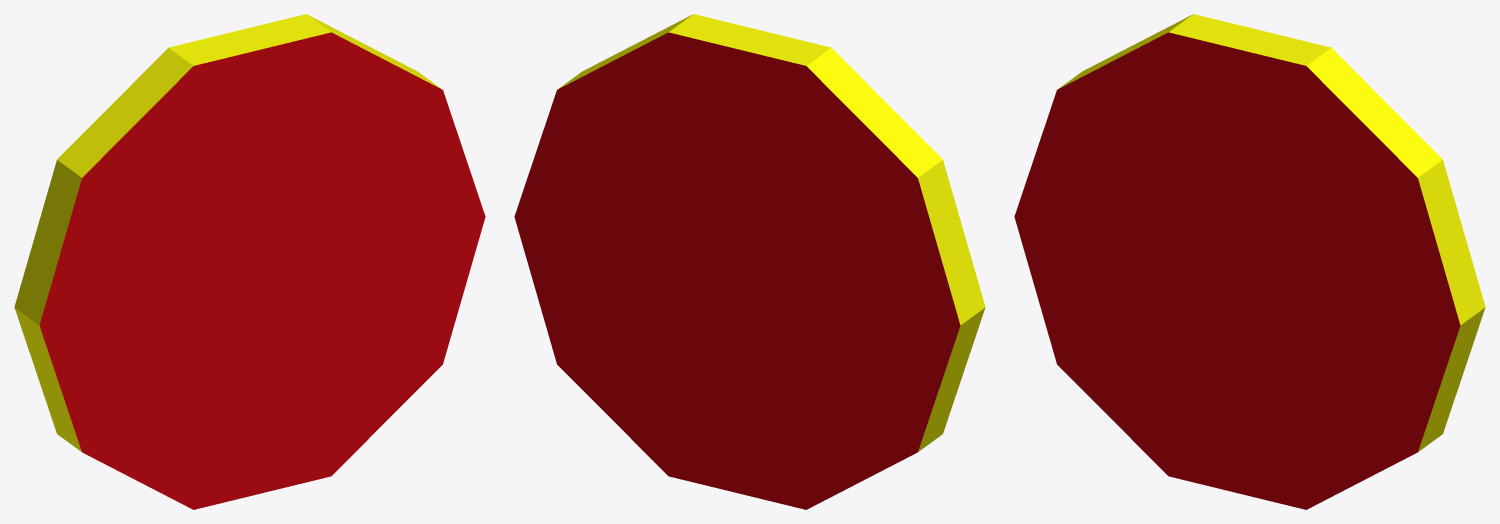
Rendered from coin-red.glb.
3 views of the same model, side by side, from view 1: azimuth 30°, elevation 25°; view 2: azimuth 150°, elevation 25°; view 3: azimuth 330°, elevation 25° (orthographic).
Bounding box in the file's own units: 21.61 × 20.56 × 2.1.
1 material, 1 textured.
